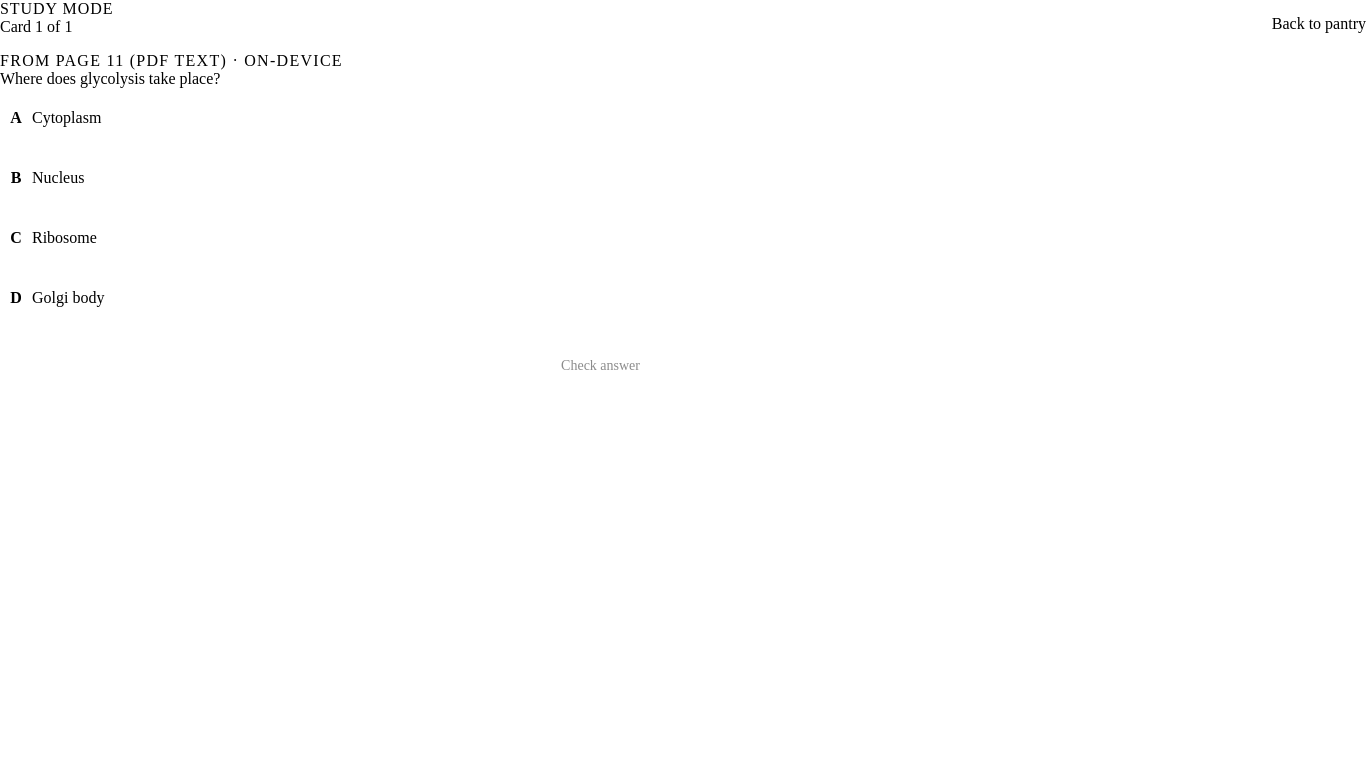
Test: StudySession › does not claim the quote was found when it cannot be located on the page
The image size is (1366, 768).
What coordinates should you click on to do the following:
click the button "A Cytoplasm"
I would click on:
 (67, 118)
Its box is [0,88,640,148].
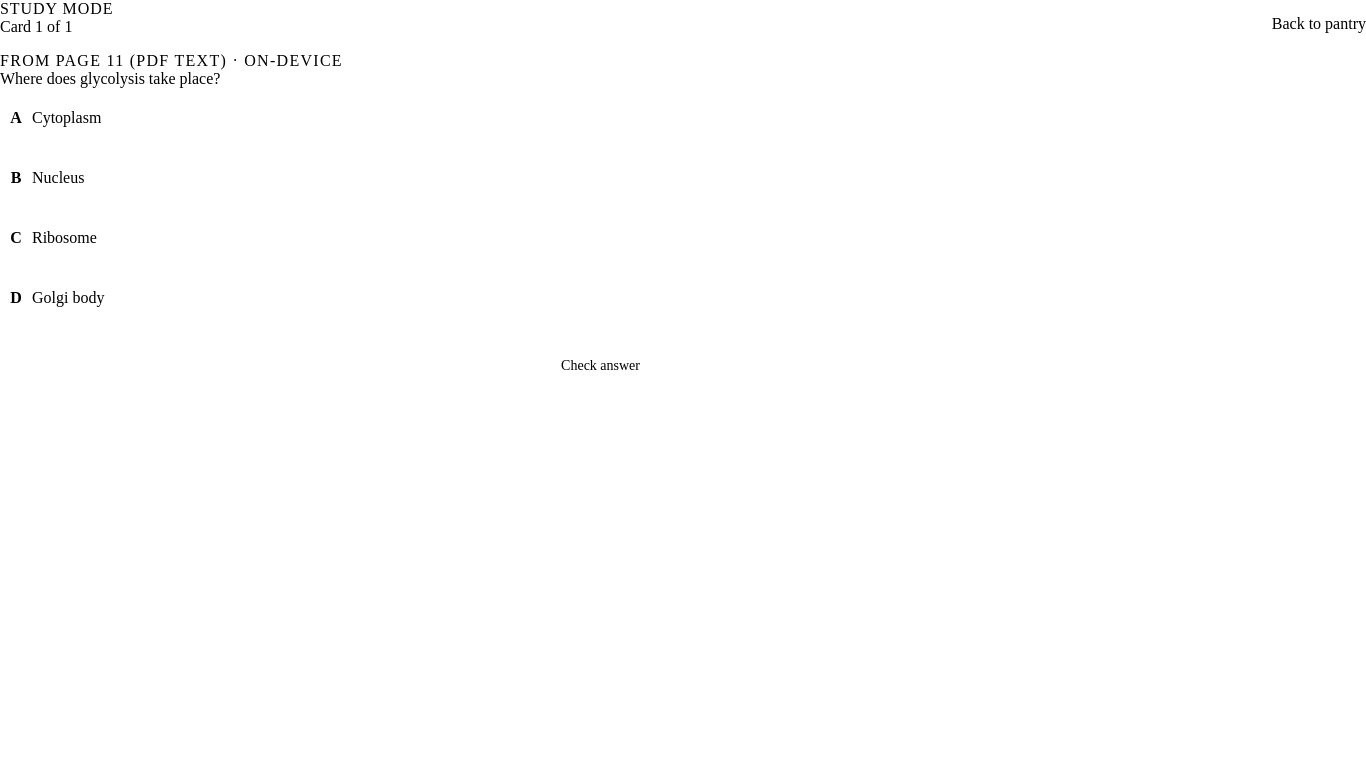
What coordinates should you click on to do the following:
click the button "Check answer"
I would click on:
 (601, 366)
Its box is [561,344,640,388].
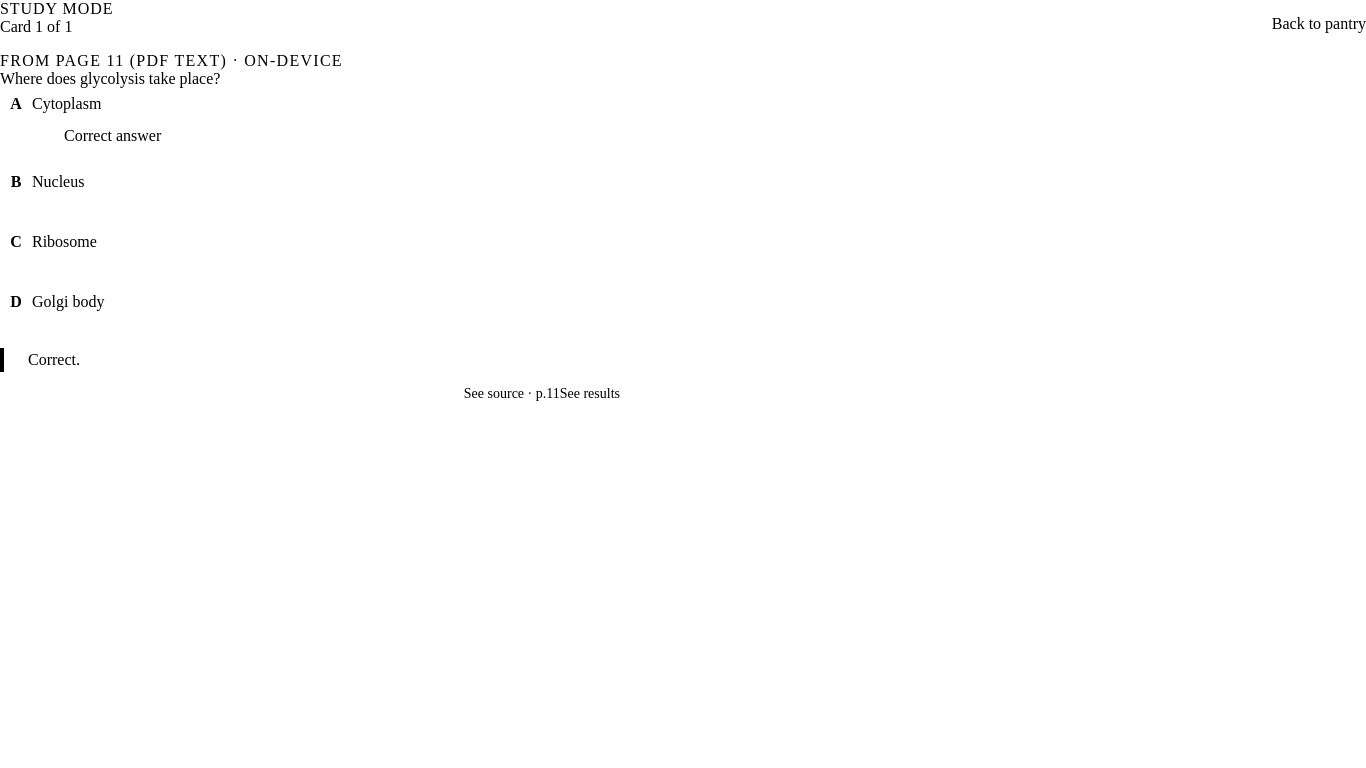
What coordinates should you click on to do the following:
click the button "See source · p.11"
I would click on:
 (502, 394)
Its box is [444,372,560,416].
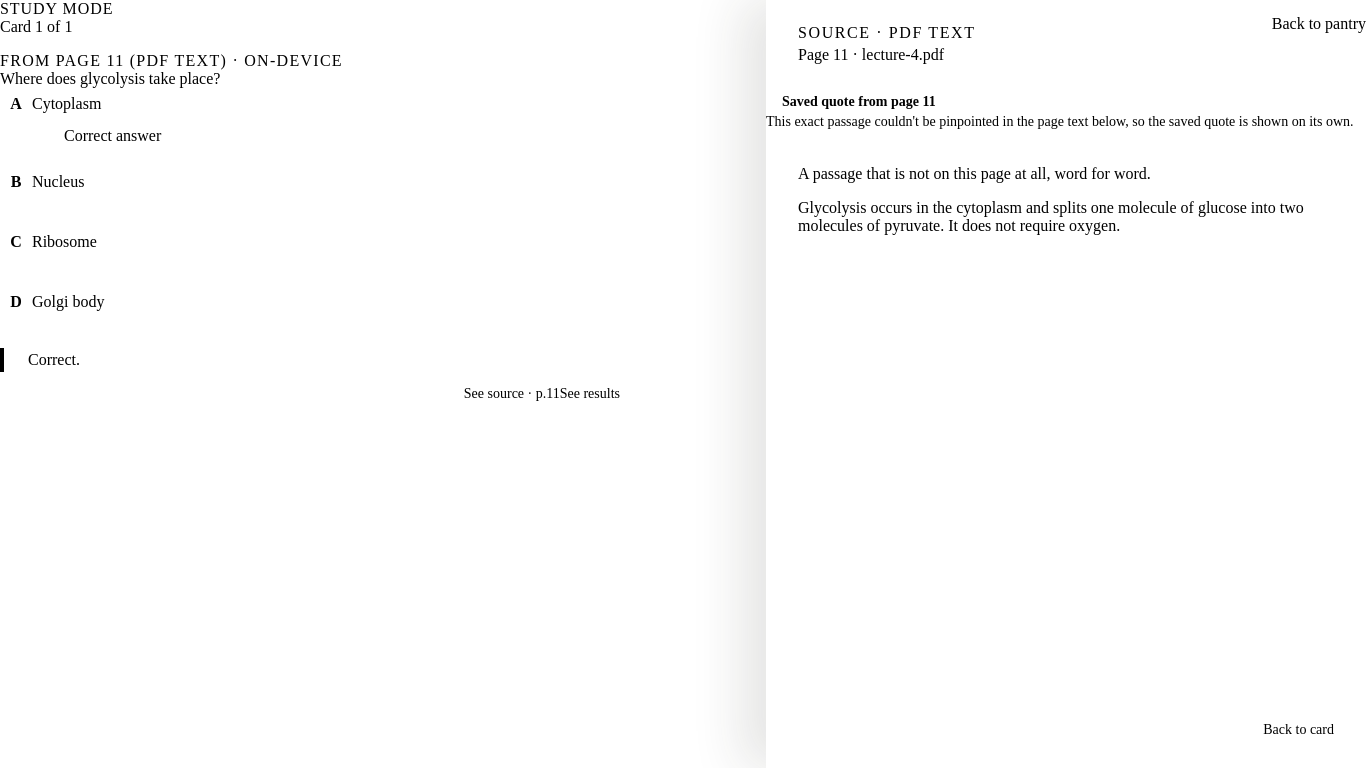
Now the text "Saved quote from page 11" is shown, box [782,94,936,109]
